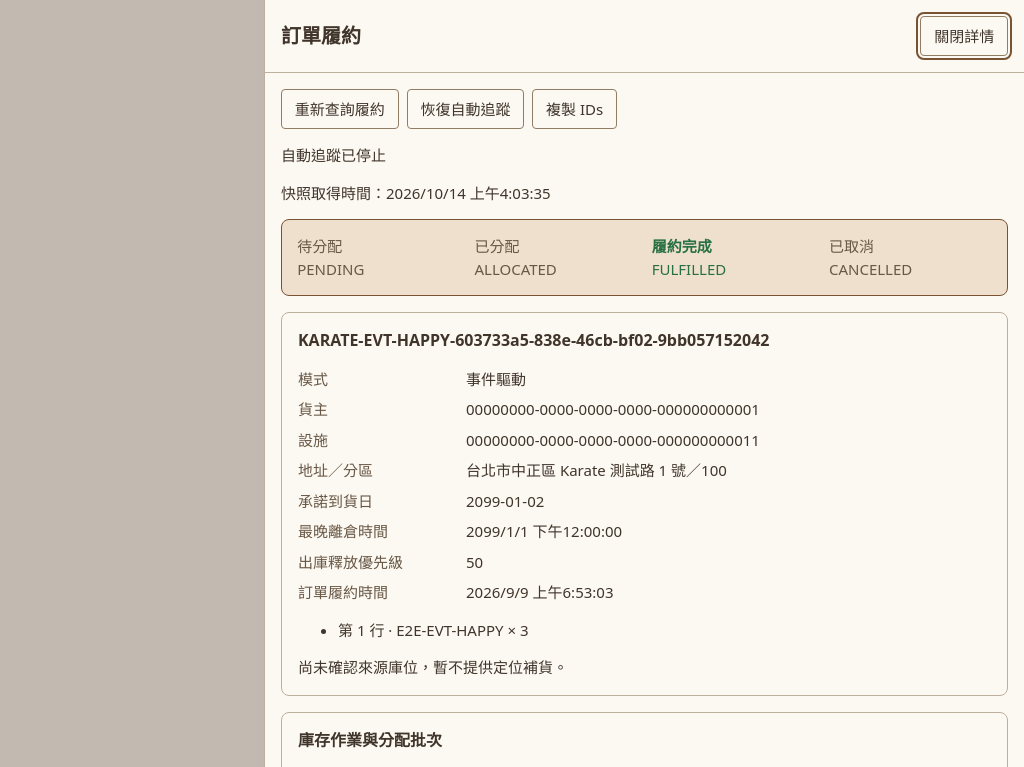
copies correlation IDs and reports clipboard failure
This screenshot has width=1024, height=767.
Expected: the text "履約完成" is shown, left=652, top=236, right=712, bottom=256
Click the button "複製 IDs" at (575,109), box left=532, top=89, right=617, bottom=129
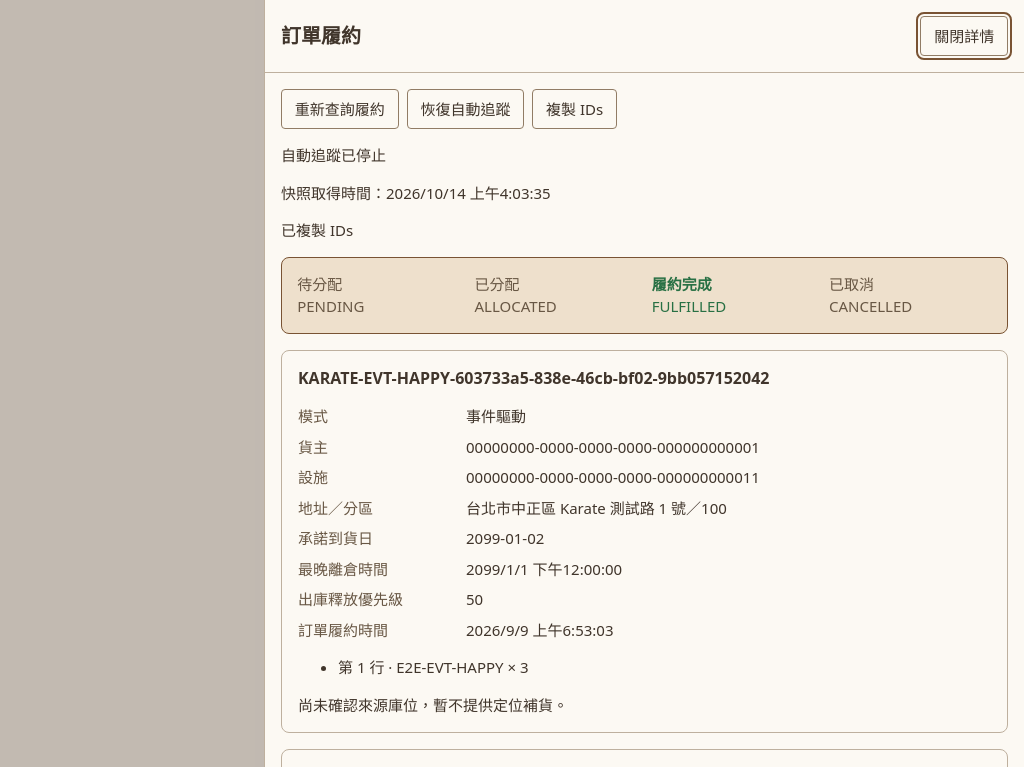
Now the text "已複製 IDs" is shown, box left=281, top=220, right=353, bottom=240
Click the button "複製 IDs" at (575,109), box left=532, top=89, right=617, bottom=129
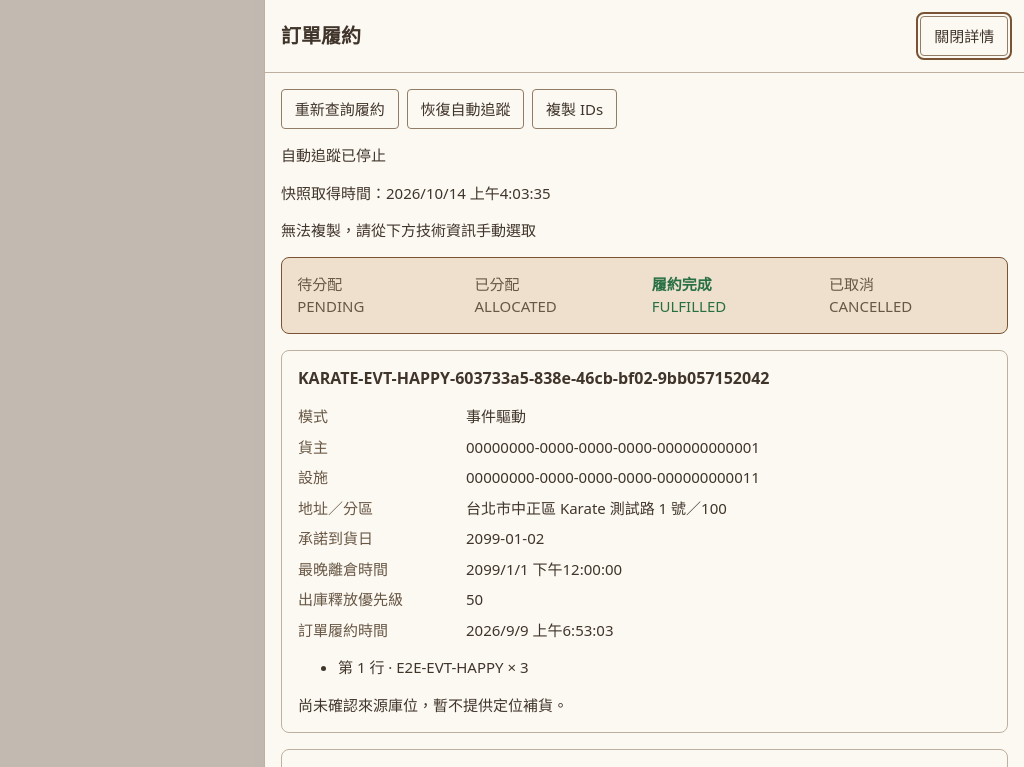
Now the text "無法複製，請從下方技術資訊手動選取" is shown, box left=281, top=220, right=536, bottom=240
